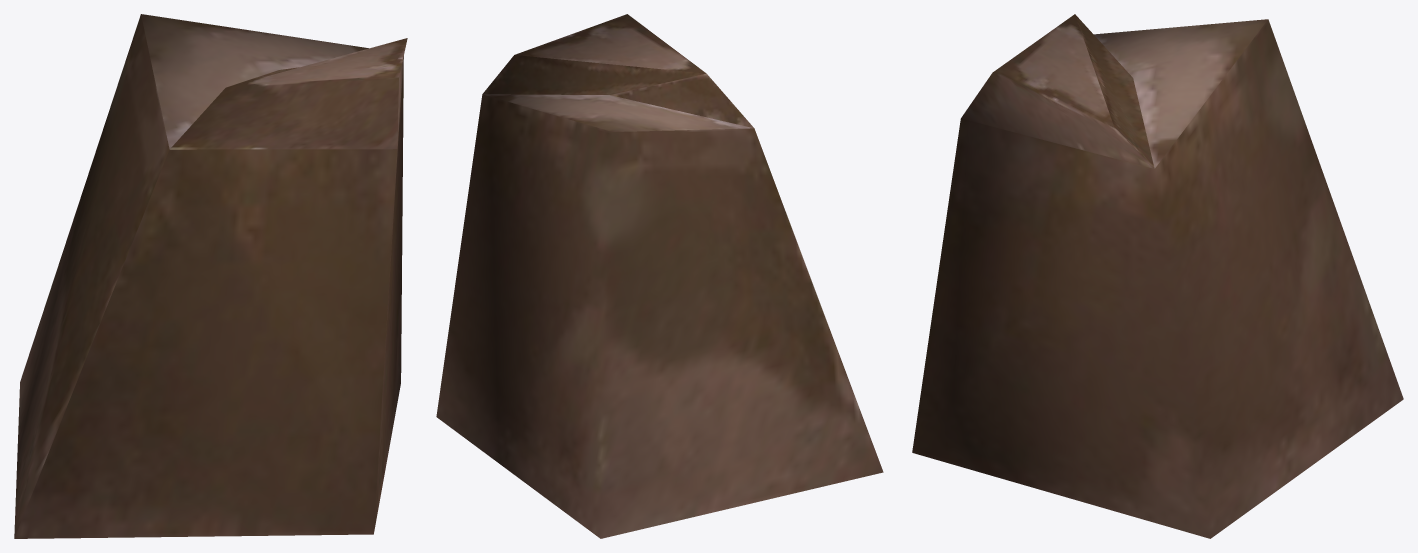
File: Lty_xiaoshitou02.FBX
The picture shows the model from 3 angles, left to right: view 1: azimuth 30°, elevation 25°; view 2: azimuth 150°, elevation 25°; view 3: azimuth 270°, elevation 25°; orthographic projection. The views are drawn at different scales.
Visible parts, largest first — view 1: Lty_xiaoshitou02; view 2: Lty_xiaoshitou02; view 3: Lty_xiaoshitou02.
Boxes of the visible parts, x1=… form: Lty_xiaoshitou02: x1=14, y1=14, x2=407, y2=538; Lty_xiaoshitou02: x1=436, y1=14, x2=883, y2=538; Lty_xiaoshitou02: x1=912, y1=14, x2=1403, y2=538.
Bounding box in the file's own units: 49.72 × 46.82 × 43.3.
